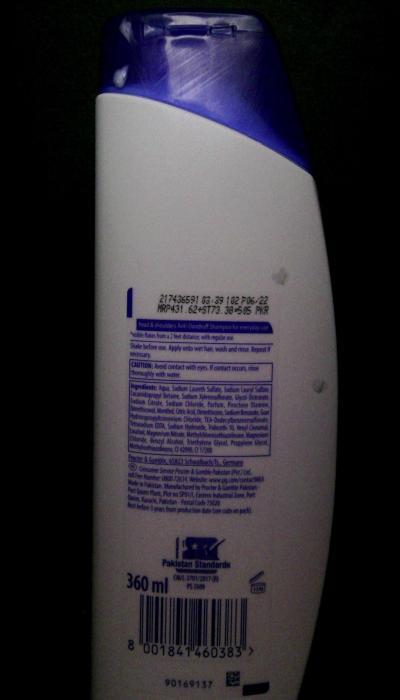pob_marg: (108, 60, 136, 98), (270, 256, 295, 294), (308, 369, 332, 404), (138, 20, 168, 47), (113, 19, 140, 48)
